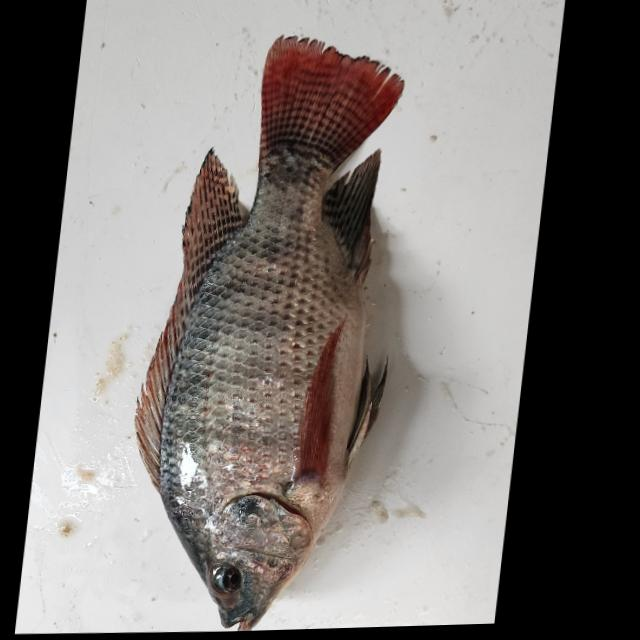Tilapia: (107, 22, 426, 635)
